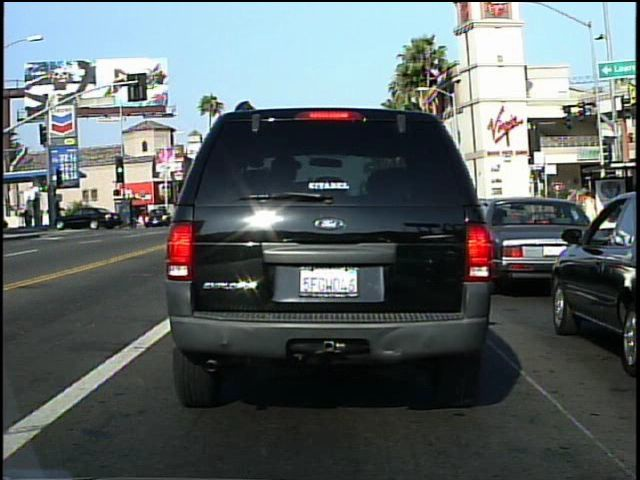person: (580, 189, 602, 245)
